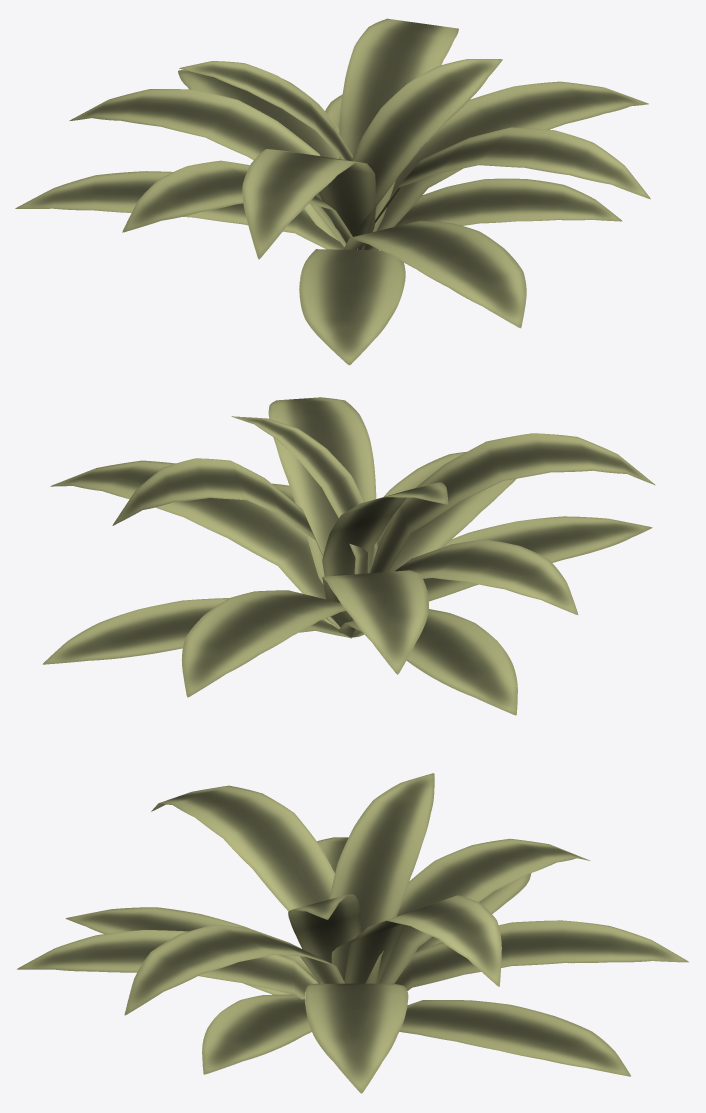
Rendered from Plant_Snake.fbx.
3 views of the same model, one above another, from view 1: azimuth 30°, elevation 25°; view 2: azimuth 150°, elevation 25°; view 3: azimuth 270°, elevation 25° (orthographic).
Parts seen in each view (by area): view 1: snake6, snake4, snake11, snake9, snake16, snake7, snake8, snake10, snake13, snake14, snake5, snake15 (+1 smaller); view 2: snake9, snake3, snake6, snake10, snake14, snake7, snake5, snake12, snake8, snake11, snake15, snake16 (+1 smaller); view 3: snake9, snake15, snake12, snake3, snake7, snake6, snake10, snake8, snake4, snake13, snake16, snake11 (+2 smaller).
Boxes of the visible parts, bbox=[...] form: snake6: bbox=[377, 81, 648, 230]; snake4: bbox=[343, 220, 526, 328]; snake11: bbox=[299, 249, 405, 365]; snake9: bbox=[242, 149, 375, 259]; snake16: bbox=[351, 59, 502, 249]; snake7: bbox=[69, 89, 346, 246]; snake8: bbox=[339, 18, 458, 231]; snake10: bbox=[371, 127, 650, 226]; snake13: bbox=[368, 178, 622, 250]; snake14: bbox=[15, 171, 344, 249]; snake5: bbox=[122, 160, 357, 249]; snake15: bbox=[179, 61, 353, 160]; snake9: bbox=[370, 433, 655, 573]; snake3: bbox=[181, 590, 360, 697]; snake6: bbox=[50, 460, 340, 629]; snake10: bbox=[268, 397, 376, 584]; snake14: bbox=[338, 609, 517, 715]; snake7: bbox=[322, 570, 428, 674]; snake5: bbox=[349, 539, 578, 636]; snake12: bbox=[42, 598, 351, 664]; snake8: bbox=[112, 458, 331, 575]; snake11: bbox=[352, 516, 652, 637]; snake15: bbox=[322, 482, 448, 576]; snake16: bbox=[231, 416, 377, 574]; snake9: bbox=[151, 785, 334, 983]; snake15: bbox=[329, 773, 434, 983]; snake12: bbox=[399, 1000, 630, 1076]; snake3: bbox=[394, 920, 688, 990]; snake7: bbox=[378, 838, 590, 983]; snake6: bbox=[304, 983, 408, 1093]; snake10: bbox=[124, 924, 344, 1015]; snake8: bbox=[344, 895, 501, 986]; snake4: bbox=[17, 930, 318, 999]; snake13: bbox=[202, 994, 311, 1074]; snake16: bbox=[288, 894, 361, 983]; snake11: bbox=[65, 907, 318, 995].
Bounding box in the file's own units: 30.48 × 10.36 × 31.31.
